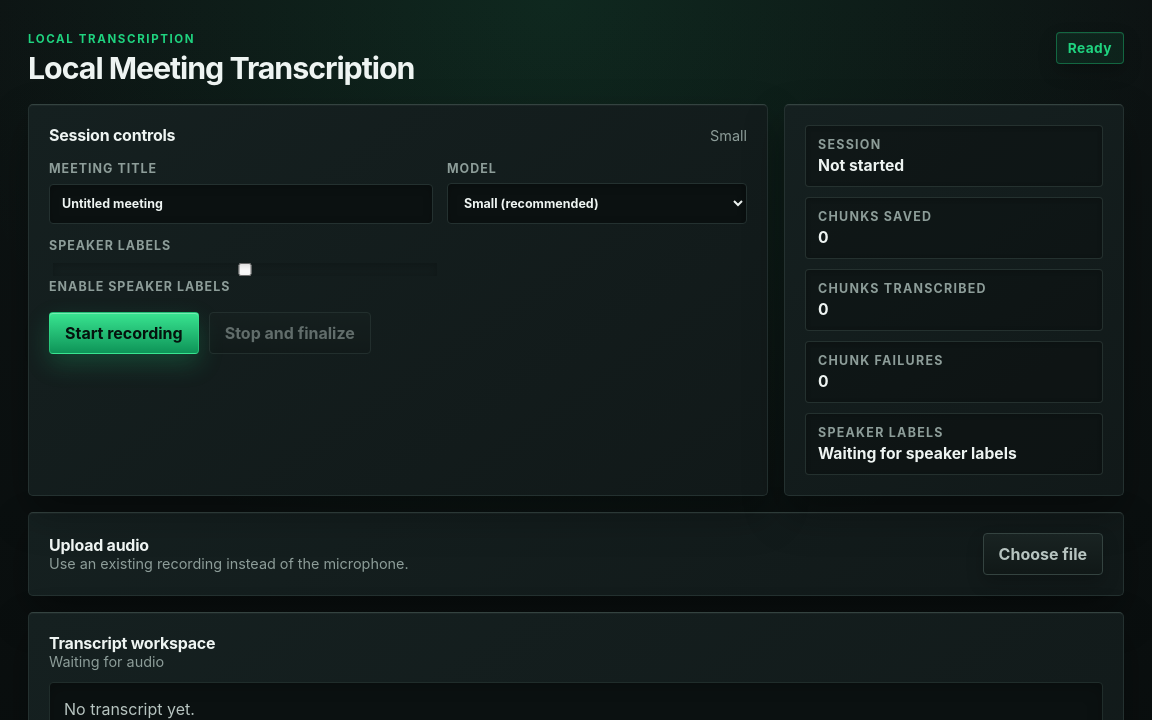
it: App › does not duplicate transcript text for replayed chunk transcription events
Click the button "Start recording" at (124, 333), box [49,312,199,354]
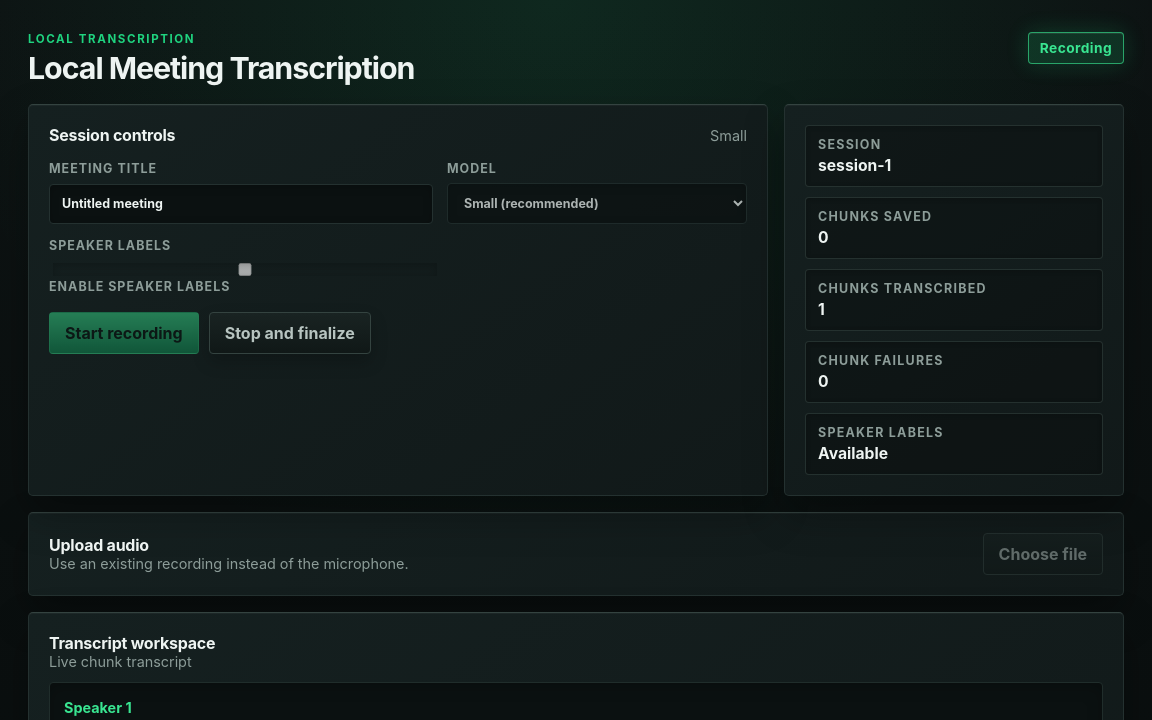
Result: the text "Chunks transcribed" shows "1" at [818,300,825,319]
